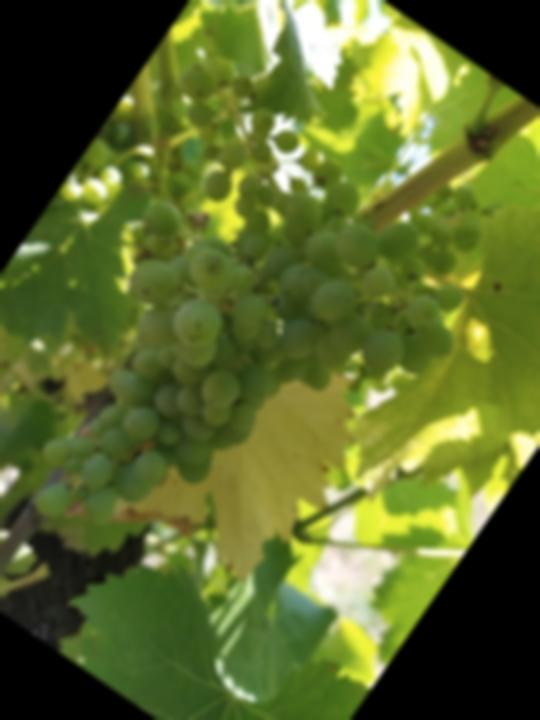grape: (0, 36, 520, 656)
